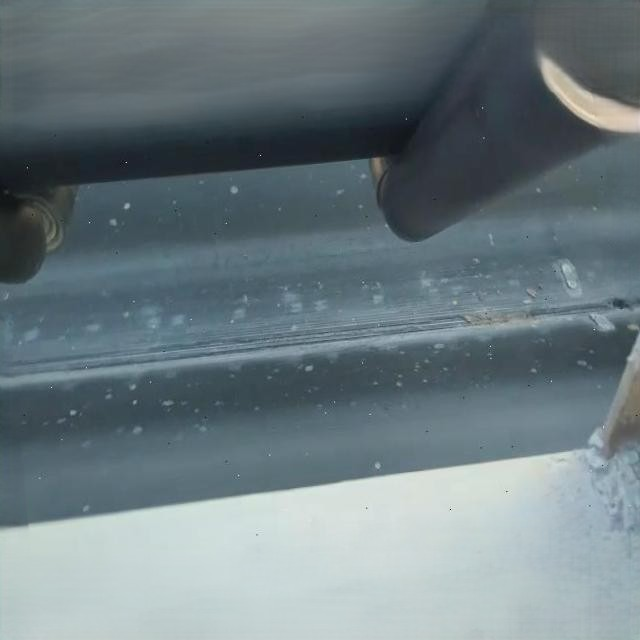Wear: (0, 294, 640, 381)
